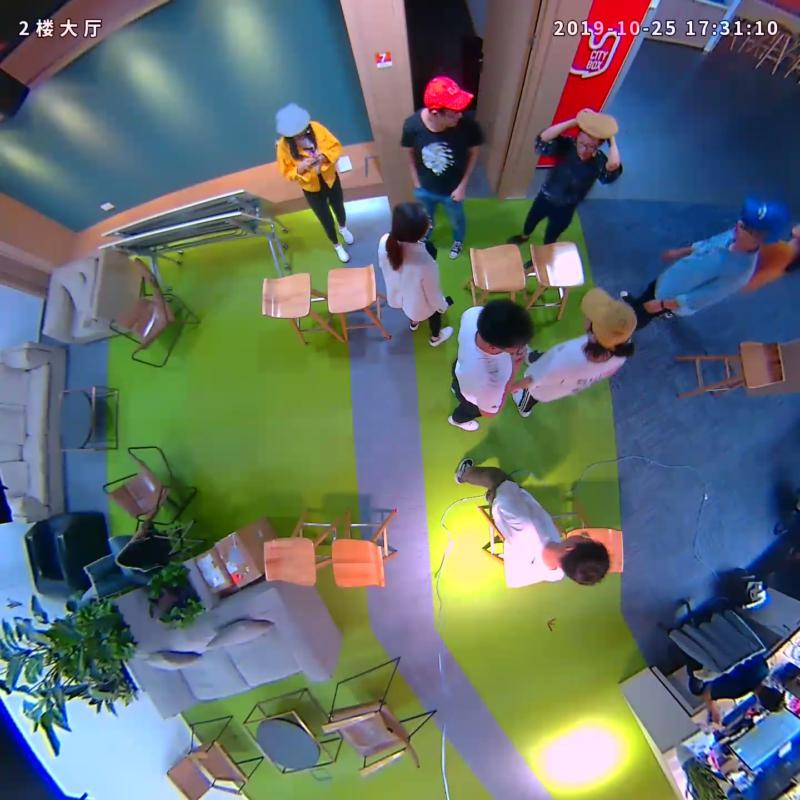head: (578, 284, 637, 350), (476, 300, 535, 356), (733, 196, 792, 247), (423, 75, 474, 127), (561, 534, 610, 586), (574, 107, 618, 161), (389, 201, 432, 242), (275, 101, 312, 143)
